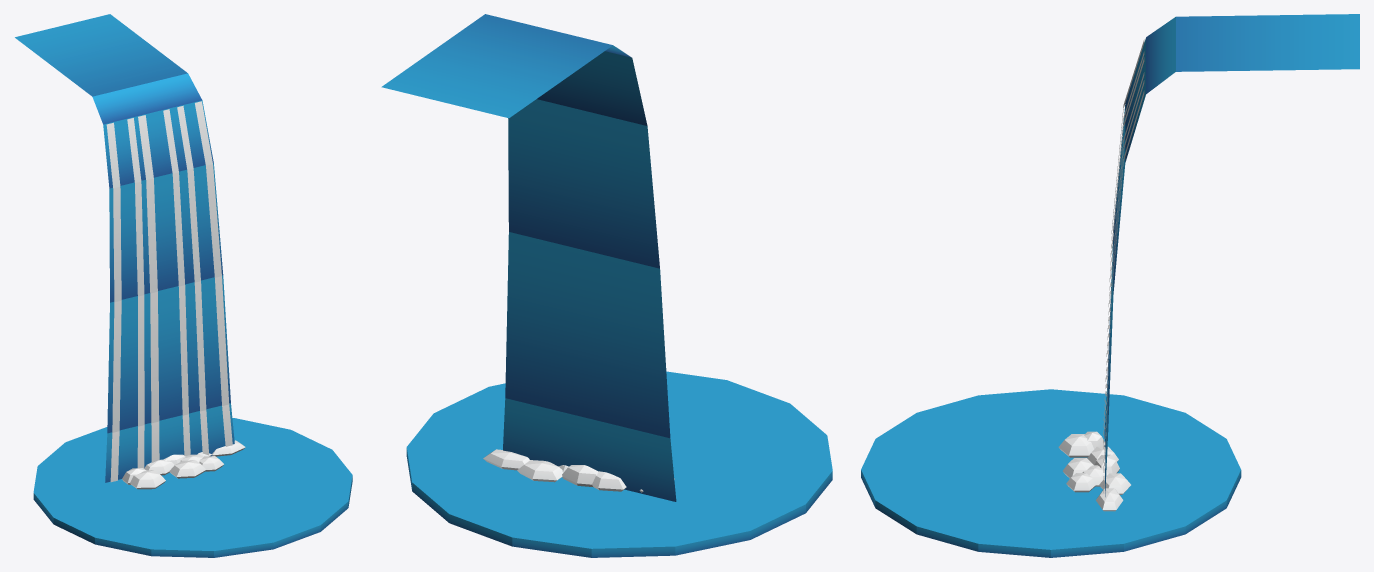
Rendered from waterfall_water.glb.
3 views of the same model, side by side, from view 1: azimuth 30°, elevation 25°; view 2: azimuth 150°, elevation 25°; view 3: azimuth 270°, elevation 25° (orthographic). The views are drawn at different scales.
Parts seen in each view (by area): view 1: waterfall_water; view 2: waterfall_water; view 3: waterfall_water.
Part boxes in pixels (x1,y1,x2,y2): waterfall_water: [15, 14, 352, 557]; waterfall_water: [381, 14, 832, 557]; waterfall_water: [861, 14, 1359, 557].
Size of the model in its own units: 6.4 by 8.11 by 8.4.
Materials: 1 (1 with a texture image).
